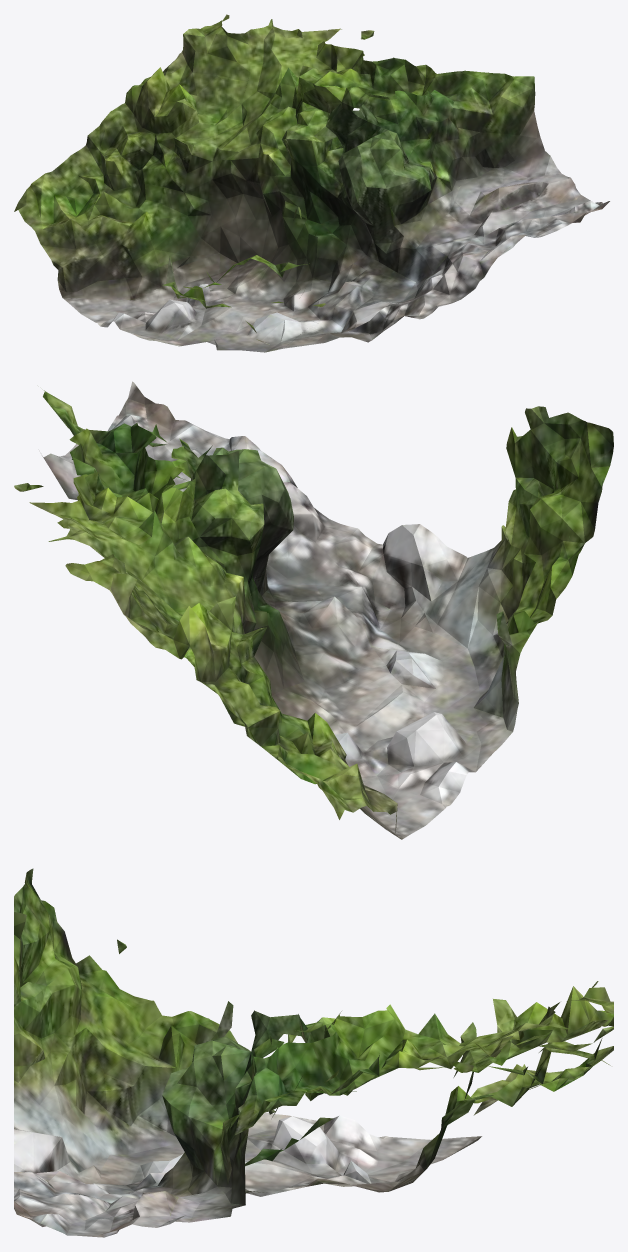
The picture shows the model from 3 angles, top to bottom: view 1: azimuth 30°, elevation 25°; view 2: azimuth 150°, elevation 25°; view 3: azimuth 270°, elevation 25°; orthographic projection. The views are drawn at different scales.
Size of the model in its own units: 26.11 by 13.04 by 26.11.
3 materials, 3 textured.
